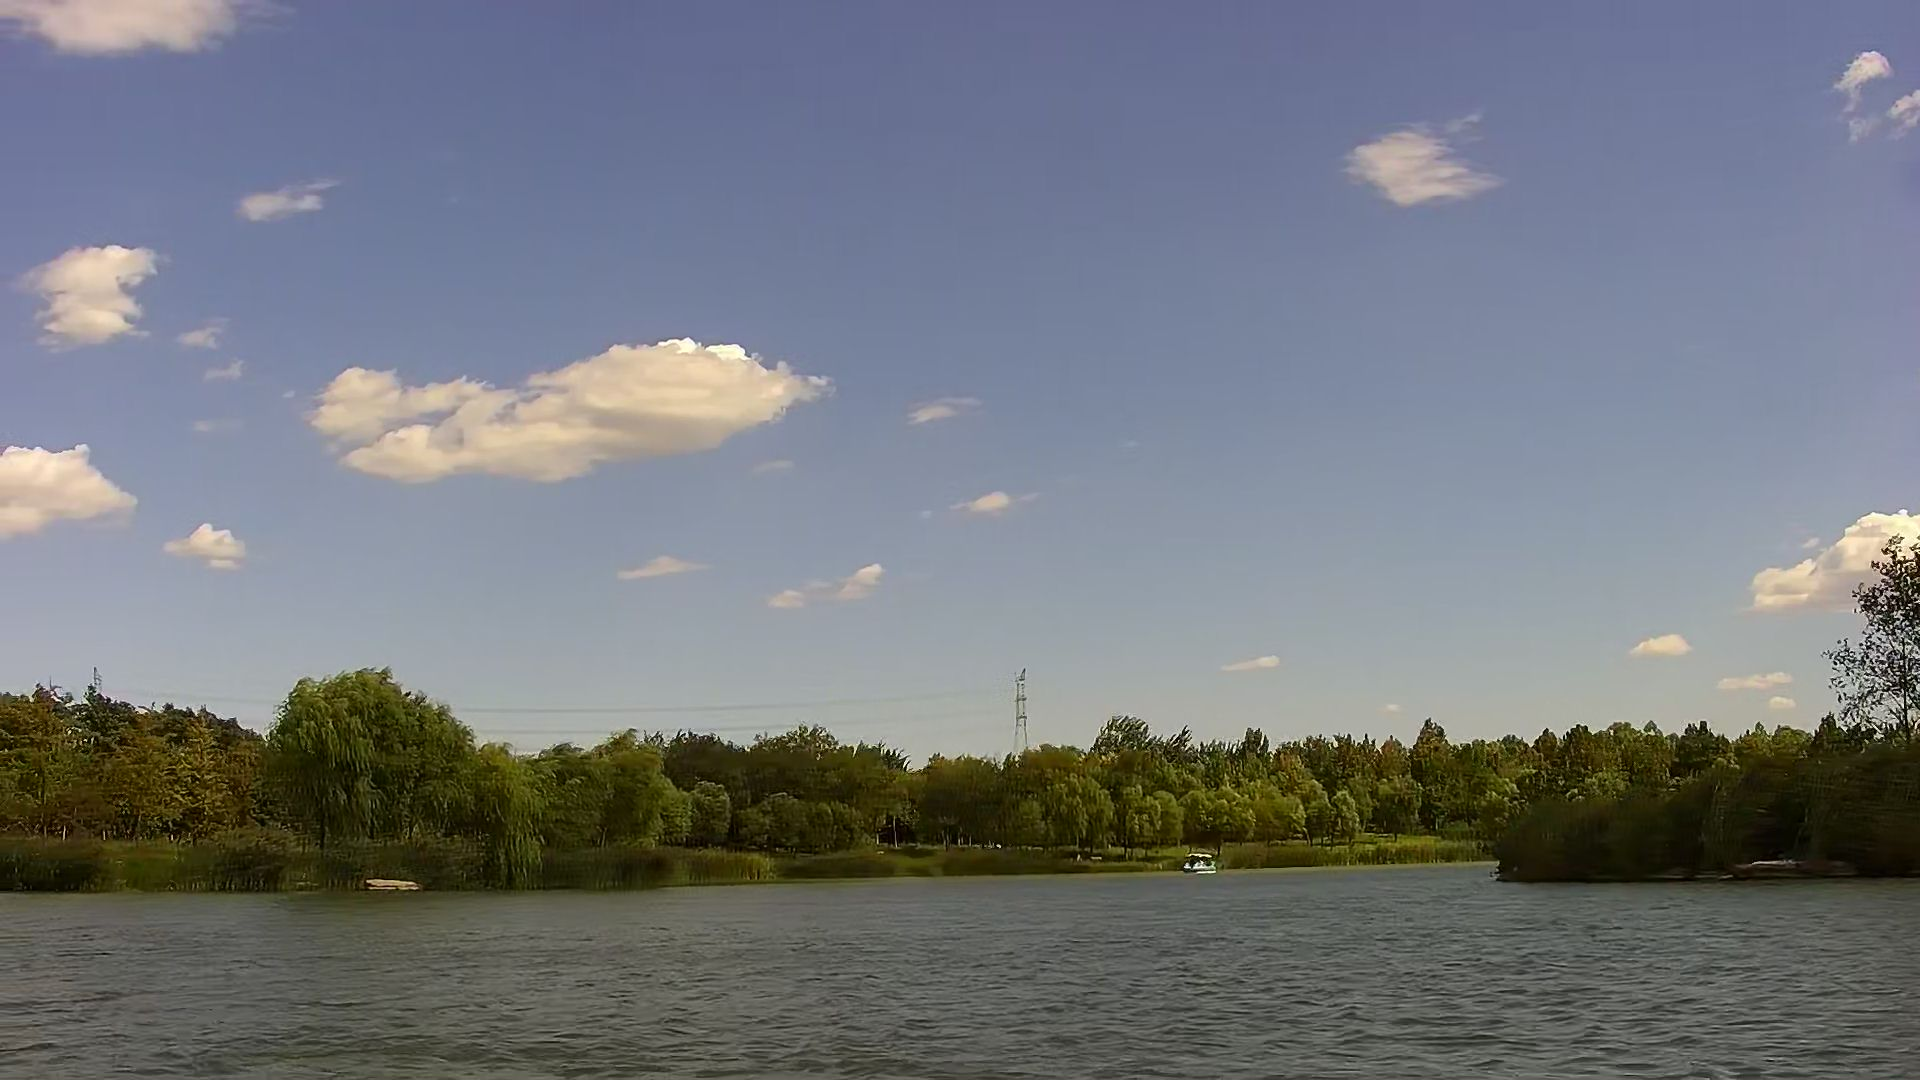boat: (1183, 851, 1215, 874)
rock: (1742, 856, 1820, 880), (365, 880, 419, 893)
